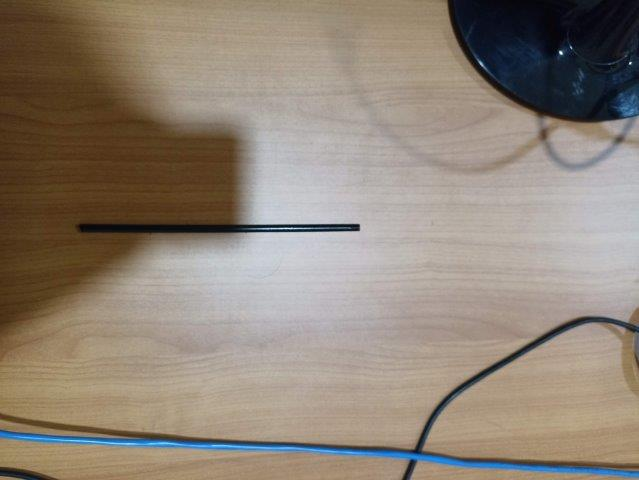sedotan: (80, 224, 360, 233)
